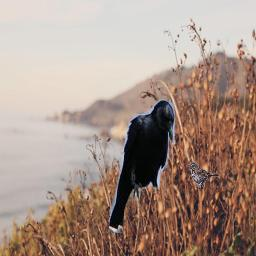Crow: (109, 99, 175, 233)
Sparrow: (189, 161, 220, 189)
